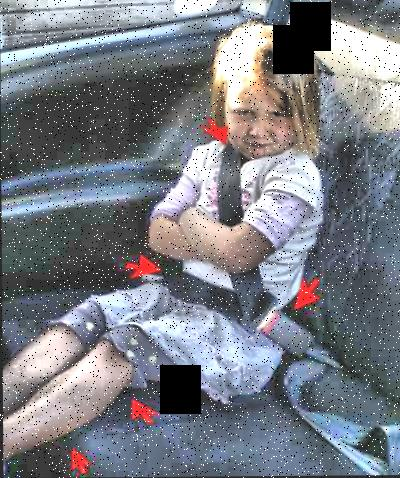seatbelt: (196, 122, 317, 356)
